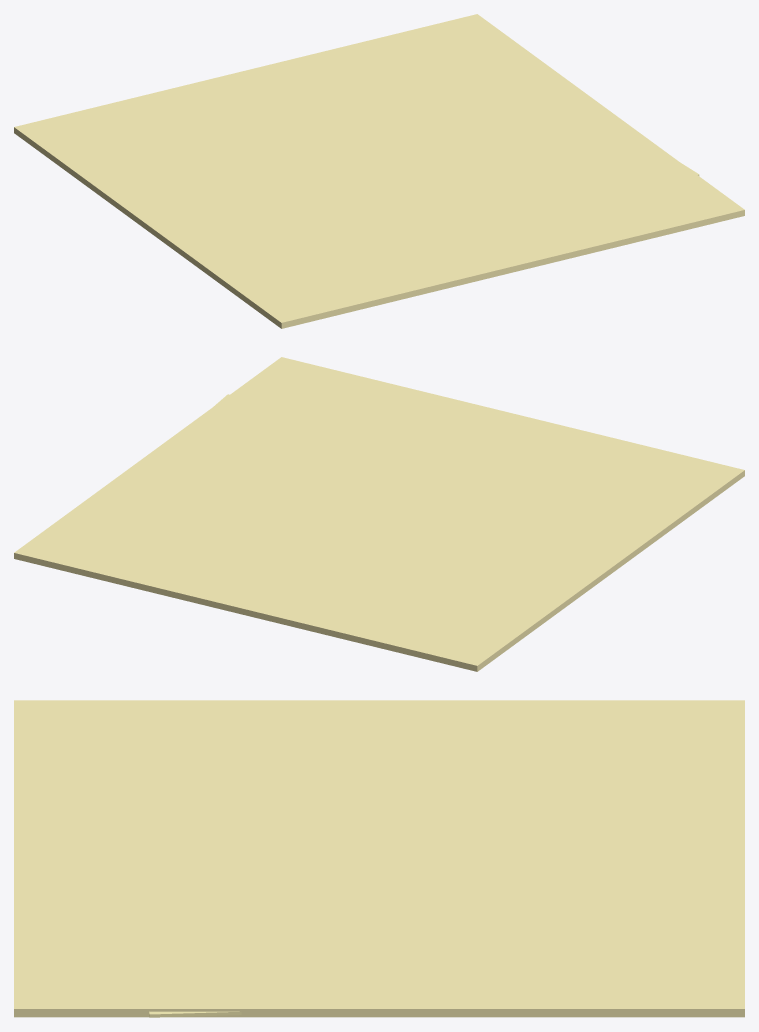
The model's file is road_workzone_crossover_shift.glb.
3 renders of one model, top to bottom at view 1: azimuth 30°, elevation 25°; view 2: azimuth 150°, elevation 25°; view 3: azimuth 270°, elevation 25°, orthographic. The views are drawn at different scales.
Visible parts, largest first — view 1: base; view 2: base; view 3: base, gravel_fill.
Boxes of the visible parts, left/top/right/bottom form: base: left=14, top=14, right=744, bottom=328; base: left=14, top=357, right=744, bottom=671; base: left=14, top=700, right=744, bottom=1017; gravel_fill: left=149, top=1011, right=241, bottom=1017.
Size of the model in its own units: 4.04 by 0.05 by 4.
